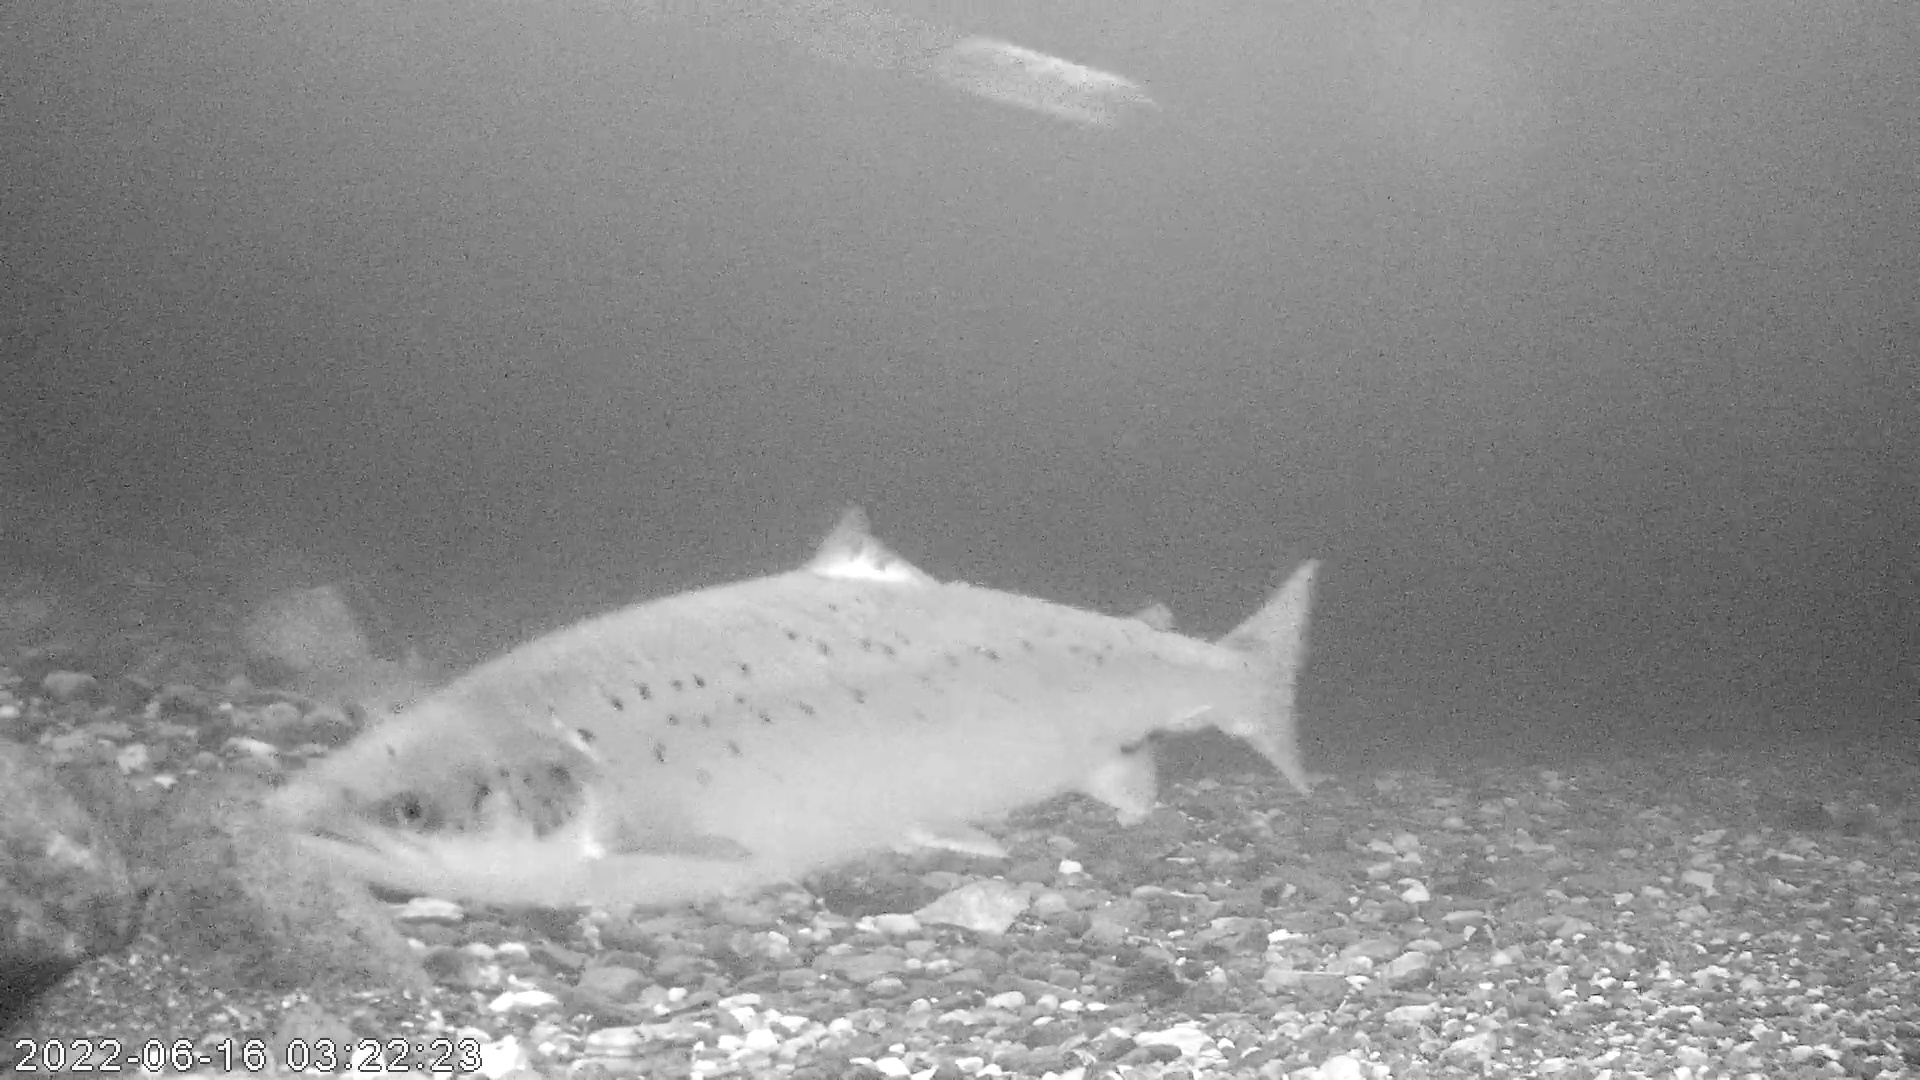salmon: (269, 497, 1319, 910)
